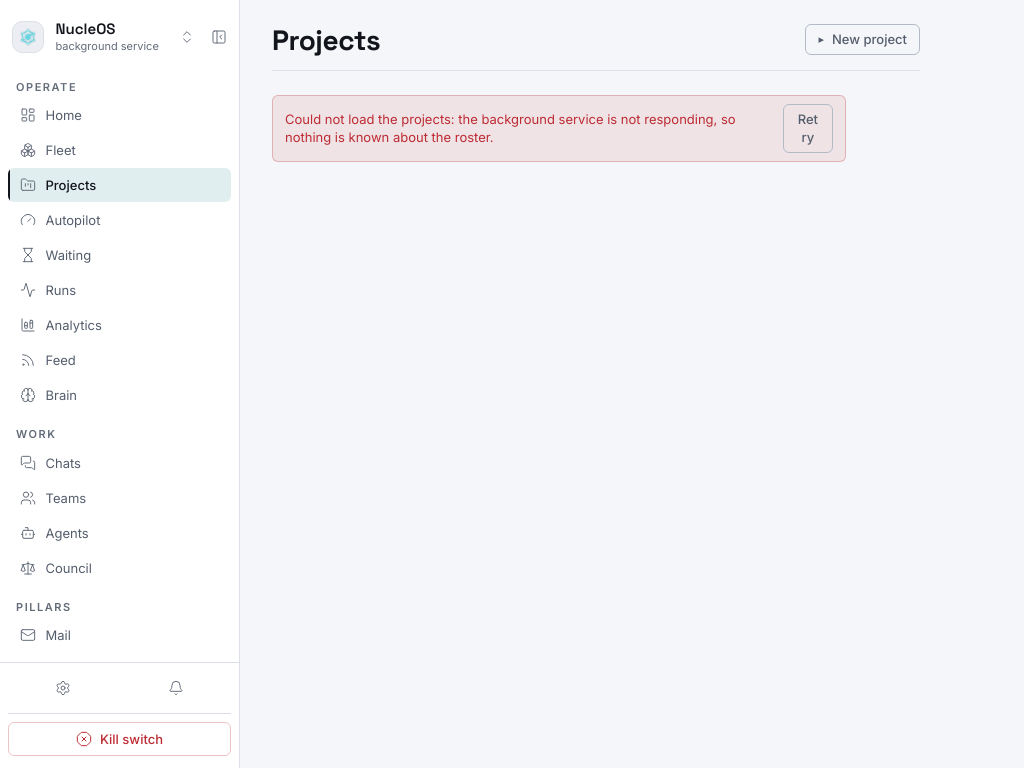
Scenario: the roster › says only the error, with a retry, when the roster never answered
What coordinates should you click on to do the following:
click the button "Retry"
I would click on:
 (808, 128)
Its box is [783,104,833,153].
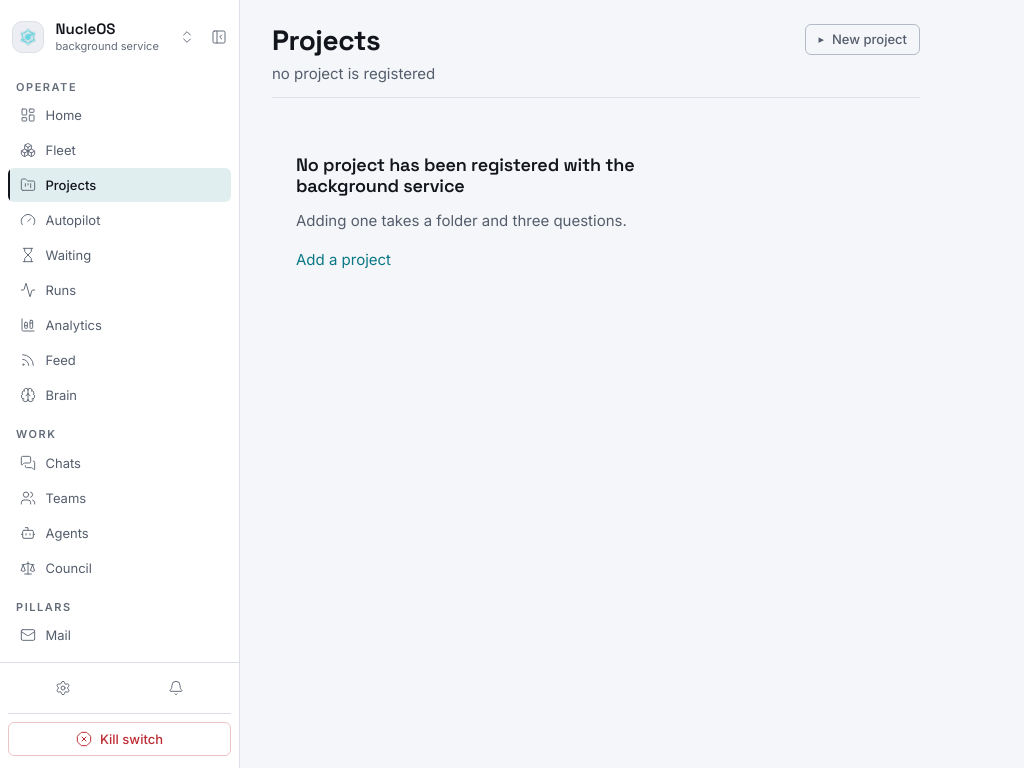
Result: the heading "No project has been registered with the background service" is shown at [296,153,634,197]
